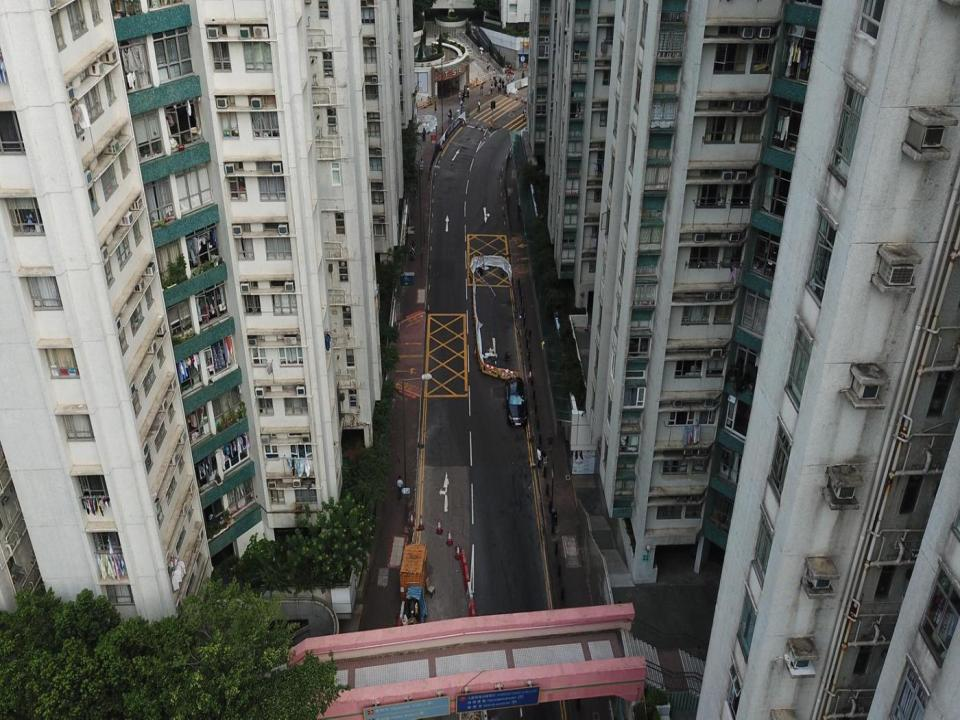car: (505, 376, 528, 428)
